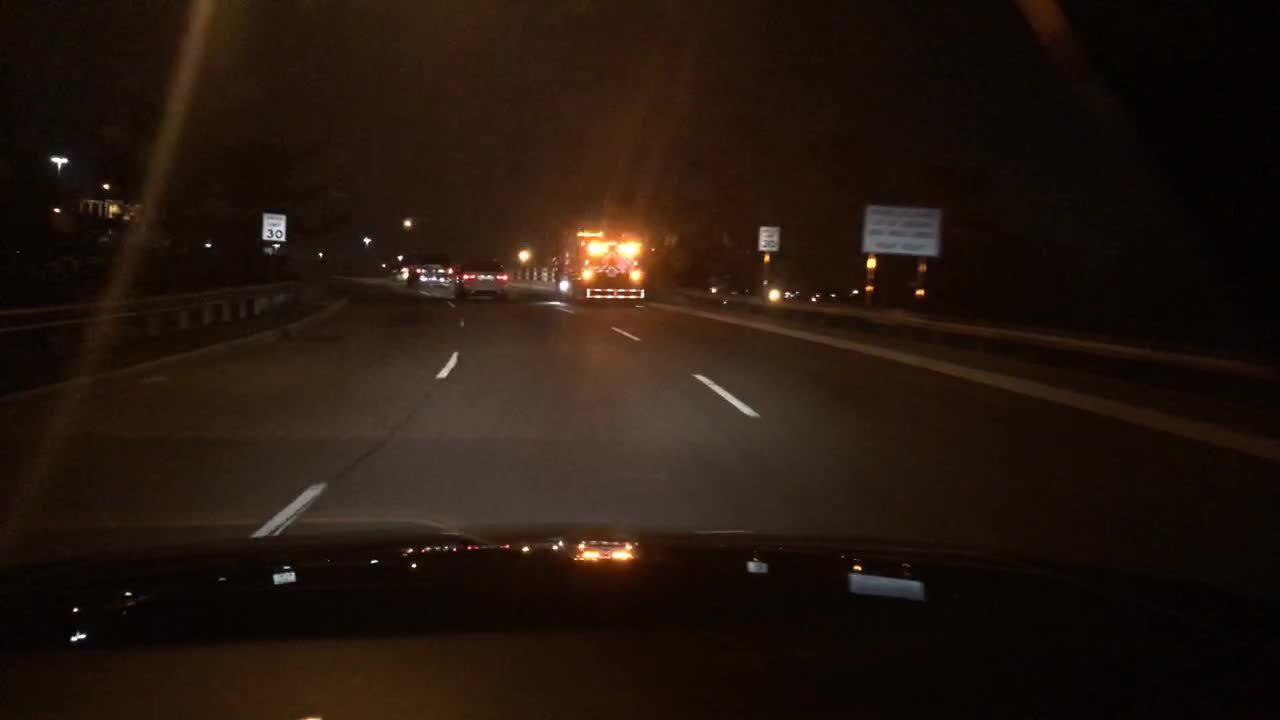car: (452, 258, 508, 301), (406, 251, 452, 287), (392, 263, 410, 283)
traffic sign: (860, 199, 940, 253), (261, 211, 286, 242), (759, 224, 778, 251)
truck: (552, 217, 649, 304)
